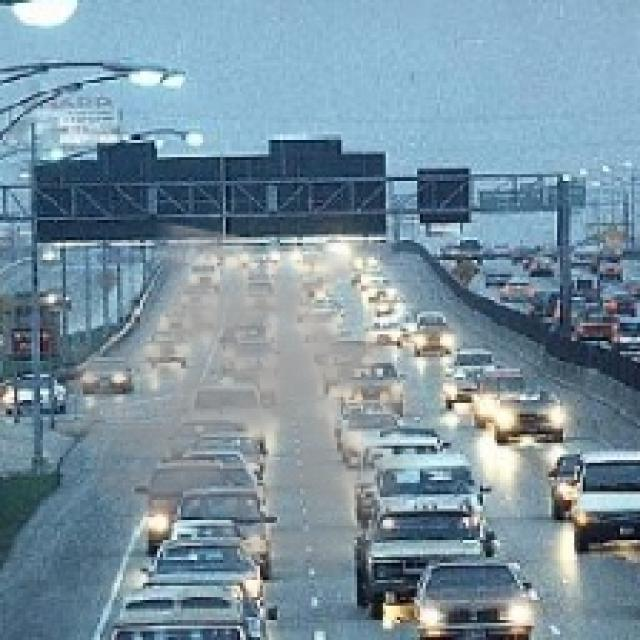smoke: (43, 220, 468, 583)
